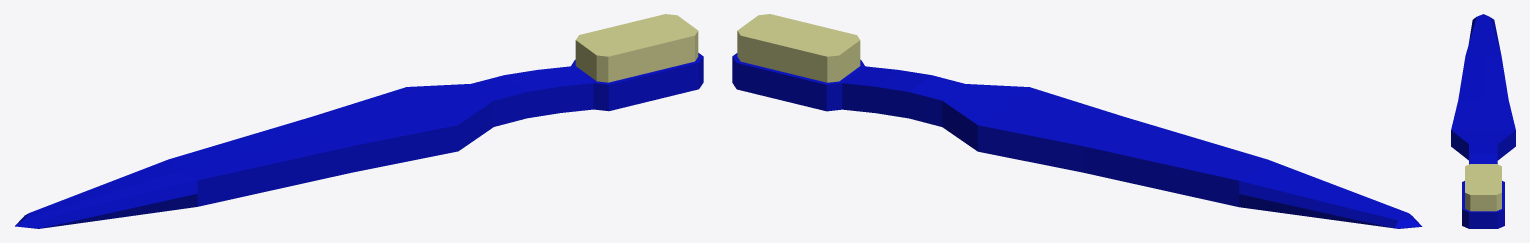
The model's file is Shank.fbx.
3 views of the same model, side by side, from view 1: azimuth 30°, elevation 25°; view 2: azimuth 150°, elevation 25°; view 3: azimuth 270°, elevation 25° (orthographic). The views are drawn at different scales.
Parts seen in each view (by area): view 1: Shank; view 2: Shank; view 3: Shank.
Part boxes in pixels (x1=…): Shank: x1=15, y1=14, x2=703, y2=228; Shank: x1=732, y1=14, x2=1422, y2=228; Shank: x1=1451, y1=14, x2=1515, y2=228.
Size of the model in its own units: 1358 by 100 by 180.
